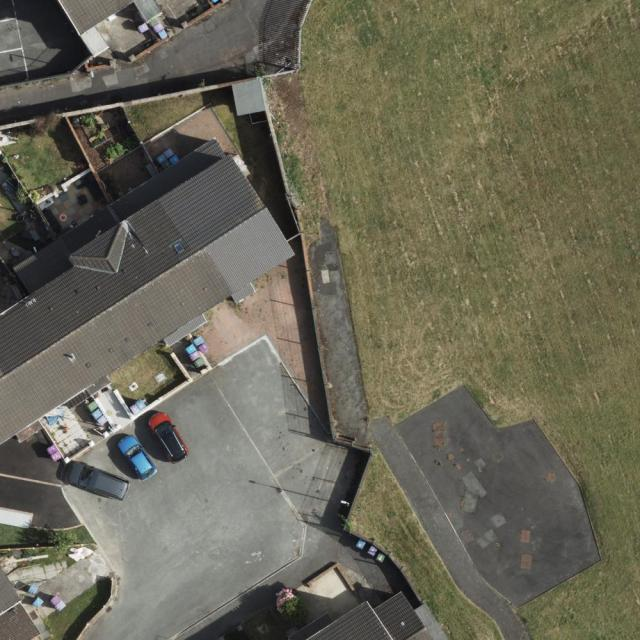roof: (0, 135, 297, 448), (286, 592, 434, 640), (54, 0, 167, 59)
skylight: (167, 240, 186, 259)
